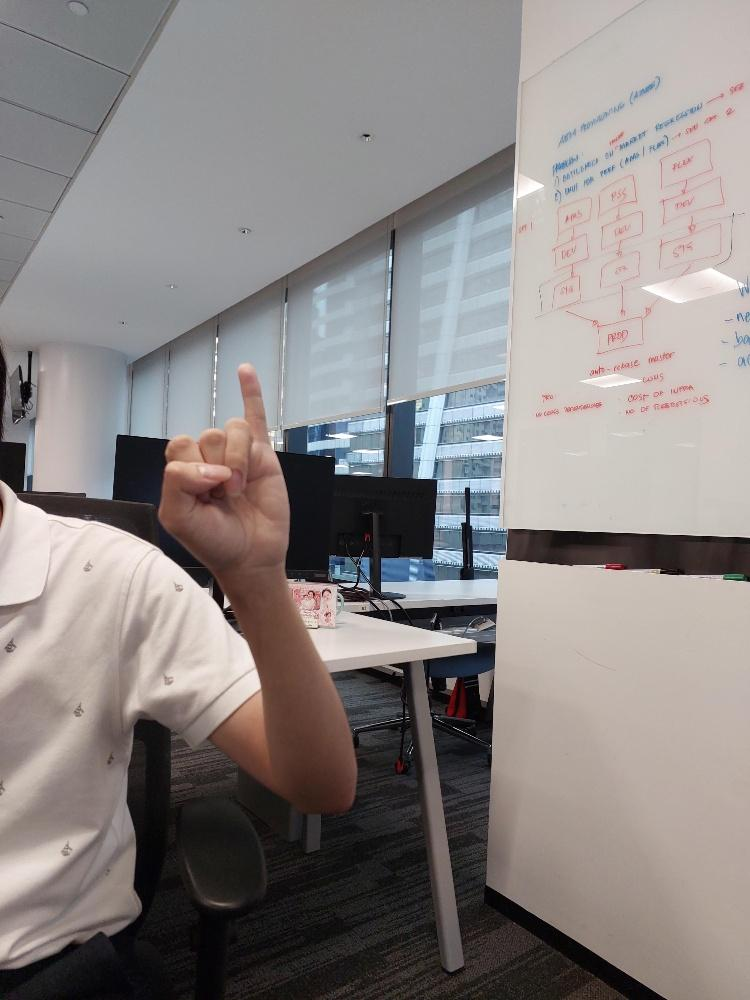i: (156, 356, 291, 574)
